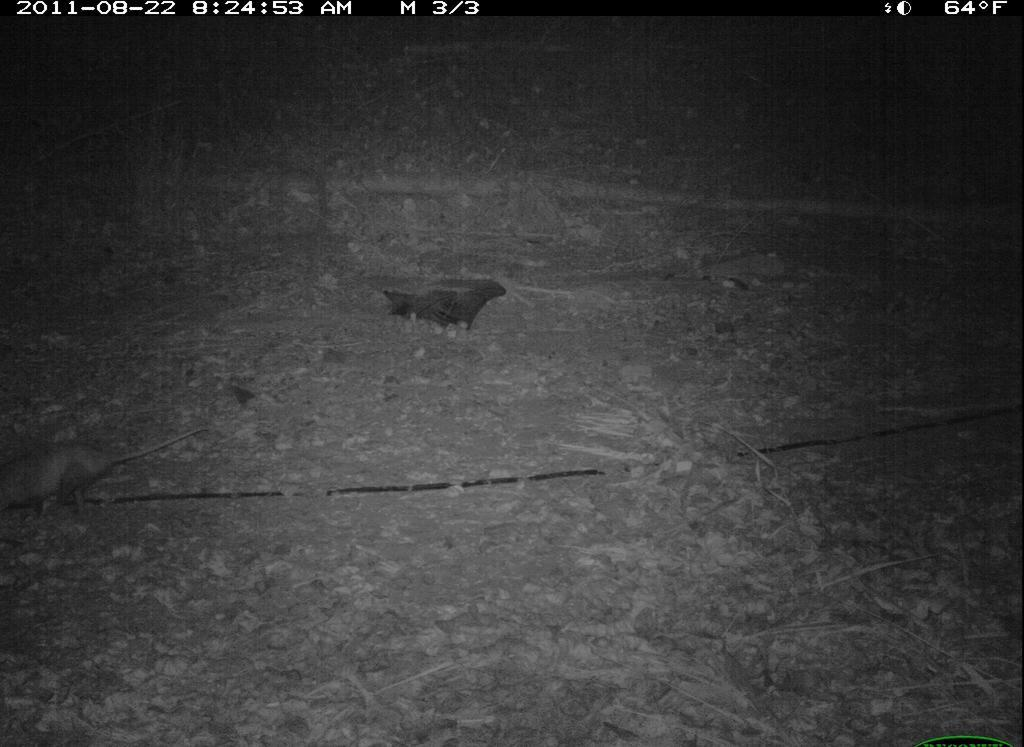opossum: (6, 420, 217, 528)
